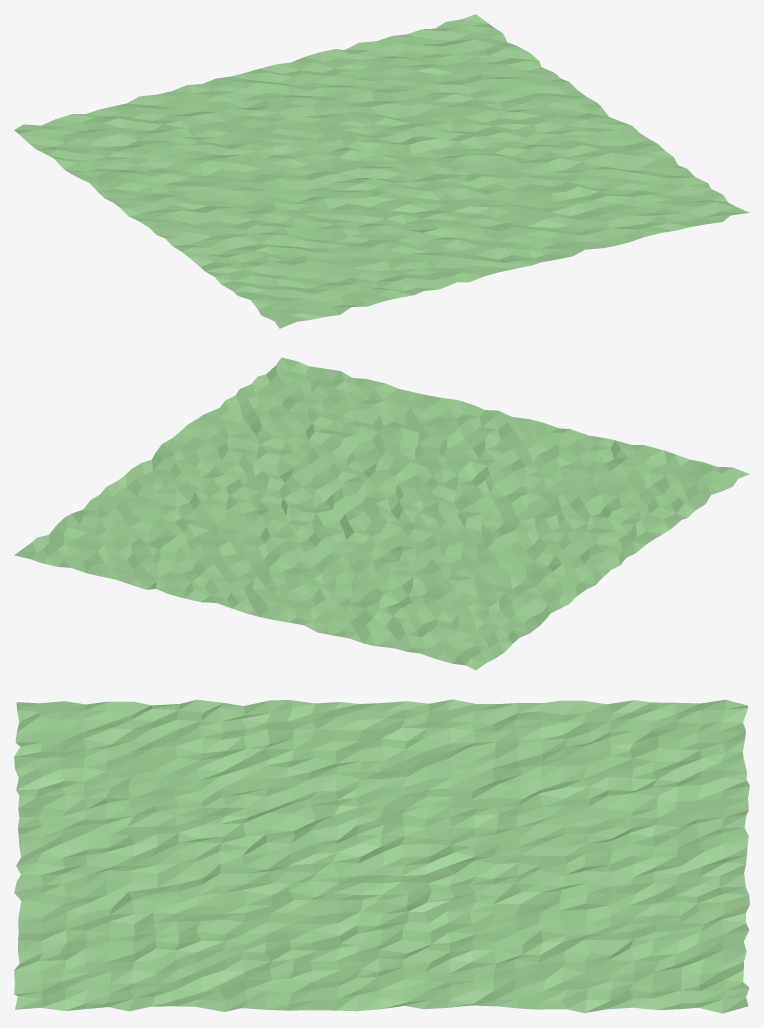
File: Grass.fbx
The picture shows the model from 3 angles, top to bottom: view 1: azimuth 30°, elevation 25°; view 2: azimuth 150°, elevation 25°; view 3: azimuth 270°, elevation 25°; orthographic projection. The views are drawn at different scales.
Visible parts, largest first — view 1: Plane; view 2: Plane; view 3: Plane.
Part boxes in pixels (left/top/right/bottom): Plane: left=14, top=14, right=749, bottom=328; Plane: left=14, top=357, right=749, bottom=670; Plane: left=14, top=699, right=749, bottom=1013.
Bounding box in the file's own units: 1011 × 9.38 × 1010.
